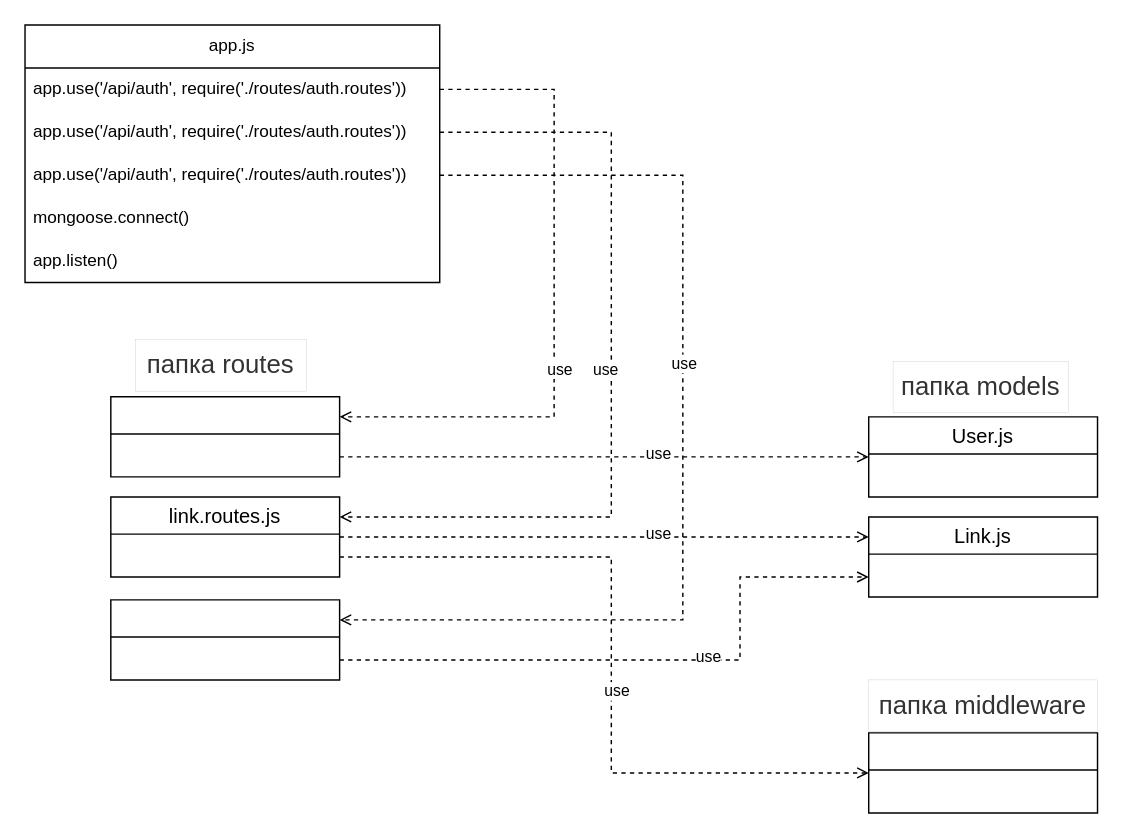
This 1123x838 diagram has some shape labels left out. The centre of each missing label's shape, as x and y in pixels:
"auth.middleware.js" goes at [982,772].
"auth.routes.js" goes at [224,436].
"redirect.routes.js" goes at [224,639].
